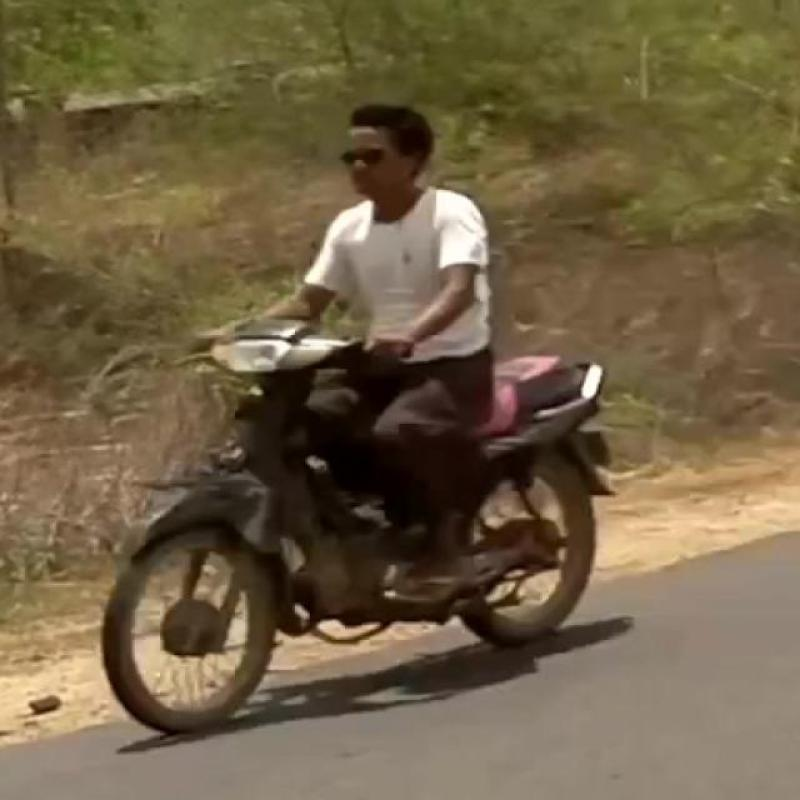nohelmet: (310, 100, 465, 210)
